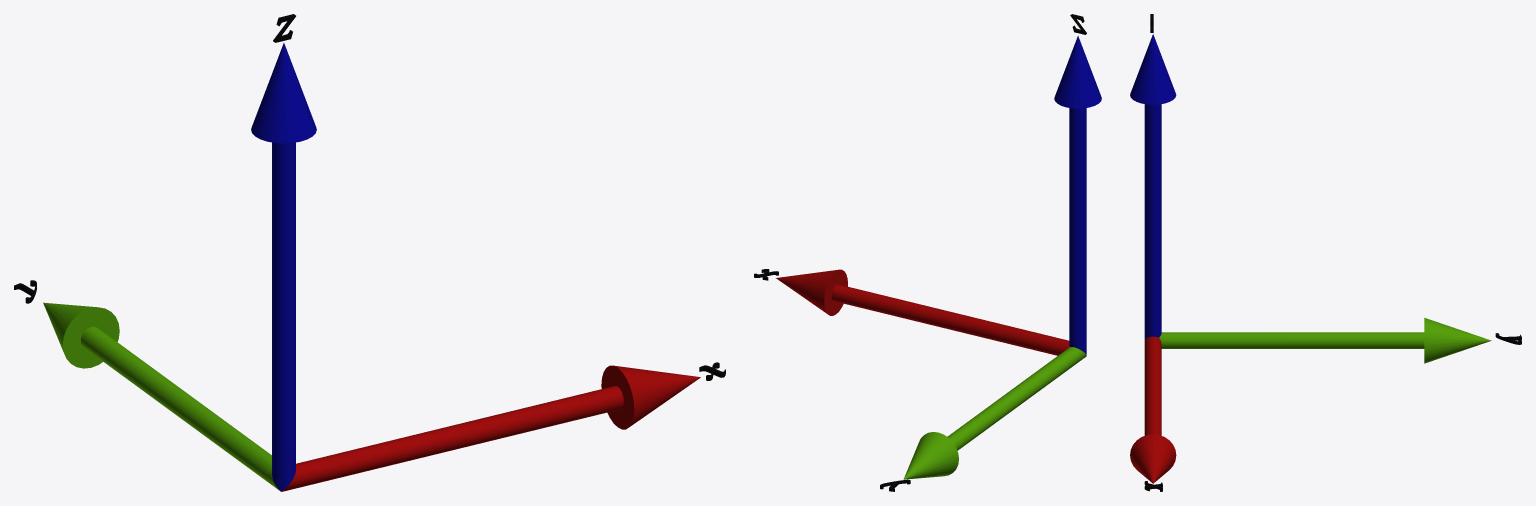
Rendered from axis_text.dae.
3 renders of one model, left to right at view 1: azimuth 30°, elevation 25°; view 2: azimuth 150°, elevation 25°; view 3: azimuth 270°, elevation 25°, orthographic. The views are drawn at different scales.
Parts seen in each view (by area): view 1: Axis (×6); view 2: Axis (×6); view 3: Axis (×6).
Boxes of the visible parts, left/top/right/bottom form: Axis (×6): left=43, top=43, right=700, bottom=491; Axis (×6): left=776, top=36, right=1101, bottom=479; Axis (×6): left=1130, top=34, right=1491, bottom=483.
Size of the model in its own units: 135 by 139 by 135.
